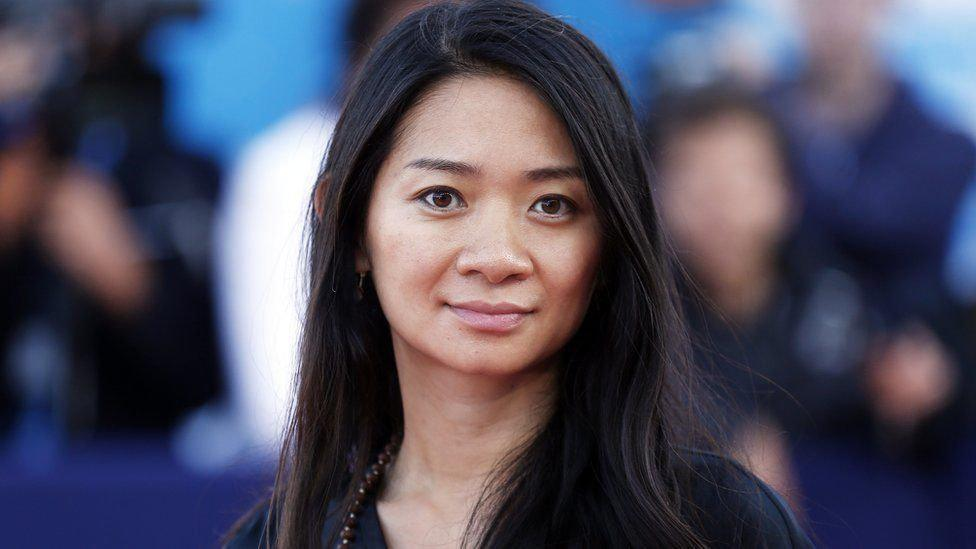Sober: (370, 97, 588, 359)
